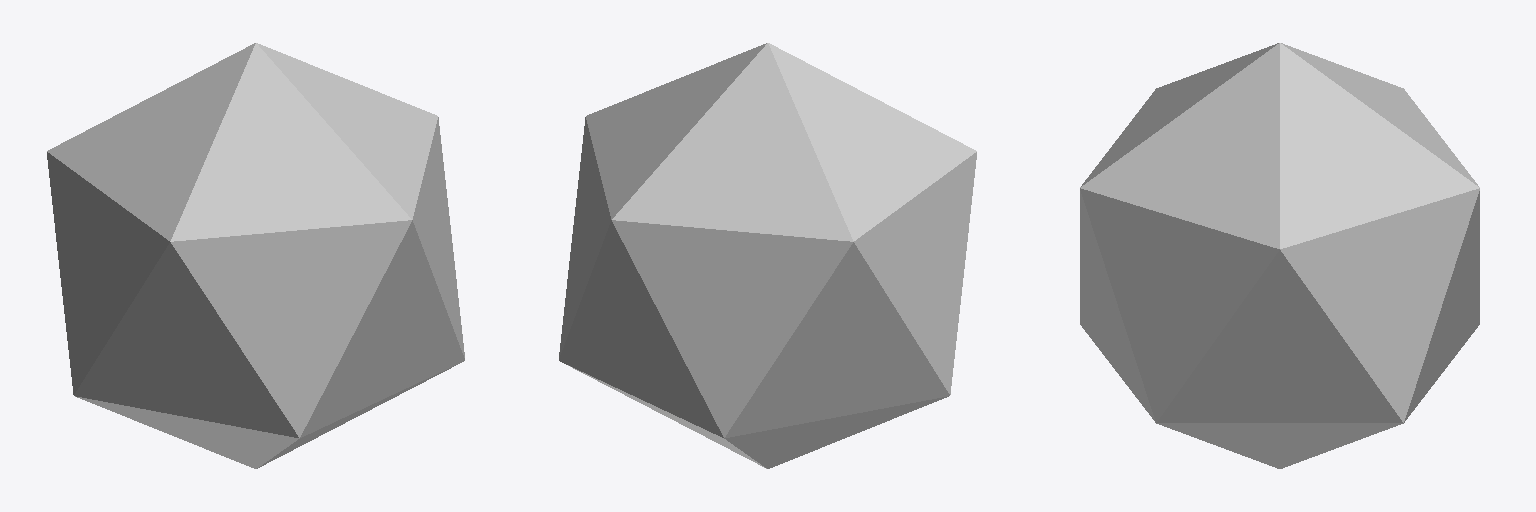
Rendered from SphereHigh.obj.
3 views of the same model, side by side, from view 1: azimuth 30°, elevation 25°; view 2: azimuth 150°, elevation 25°; view 3: azimuth 270°, elevation 25° (orthographic).
Visible parts, largest first — view 1: GeoSphere001; view 2: GeoSphere001; view 3: GeoSphere001.
Part boxes in pixels (left/top/right/bottom): GeoSphere001: left=47, top=43, right=464, bottom=468; GeoSphere001: left=559, top=43, right=976, bottom=468; GeoSphere001: left=1080, top=43, right=1479, bottom=468.
Bounding box in the file's own units: 1.79 × 2 × 1.7.